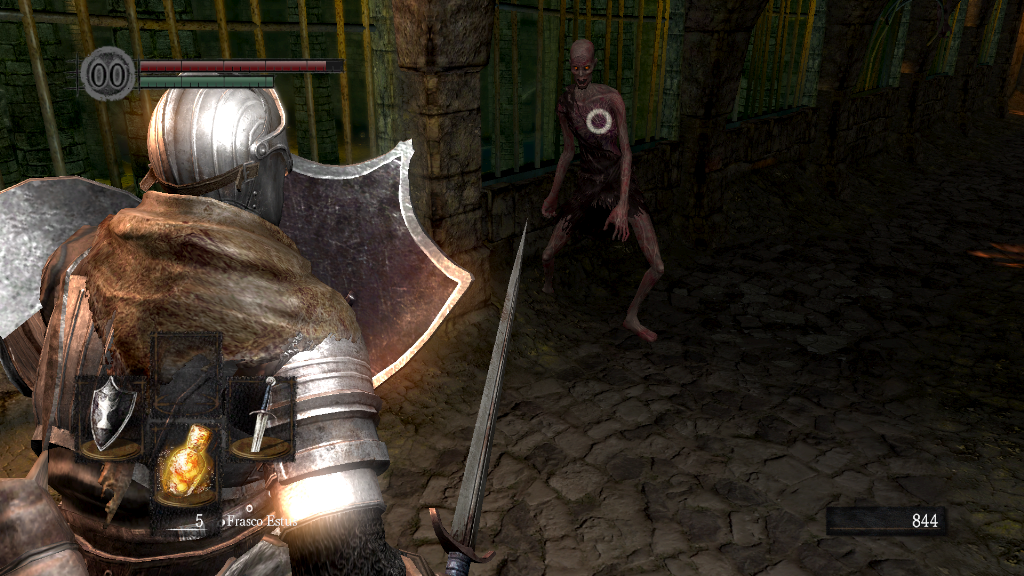health: (138, 58, 343, 71)
hollow: (541, 36, 665, 341)
humanity: (80, 45, 136, 102)
player: (1, 65, 529, 575)
souls: (825, 506, 945, 536)
stamina: (138, 74, 274, 88)
